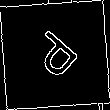P_SE: (24, 25, 86, 85)
